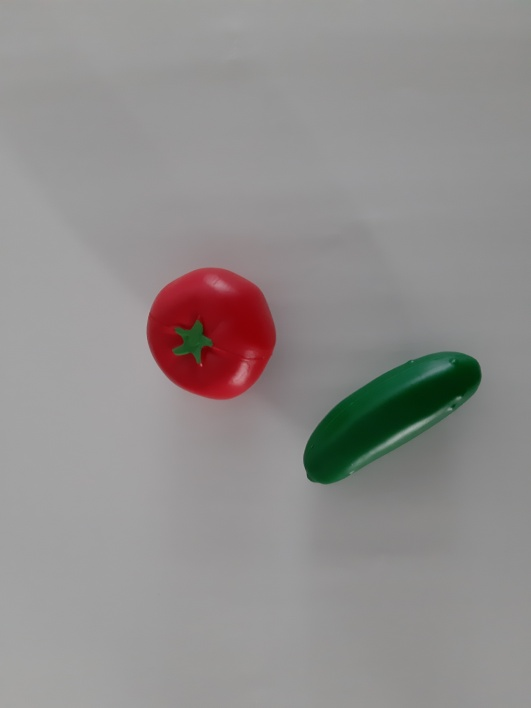cucumber: (297, 337, 493, 495)
tomato: (131, 253, 286, 413)
